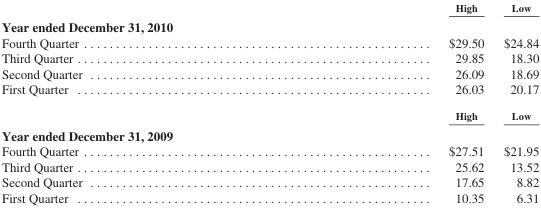table: (0, 0, 538, 204)
table column: (0, 0, 264, 204), (264, 0, 493, 204), (493, 0, 538, 204)
table column header: (0, 0, 538, 15)
table projected row header: (0, 15, 538, 34), (0, 124, 538, 143)
table row: (0, 102, 538, 124), (0, 81, 538, 102), (0, 15, 538, 34), (0, 124, 538, 143), (0, 34, 538, 50), (0, 65, 538, 81), (0, 158, 538, 174), (0, 0, 538, 15), (0, 50, 538, 65), (0, 143, 538, 158), (0, 174, 538, 189), (0, 189, 538, 204)
